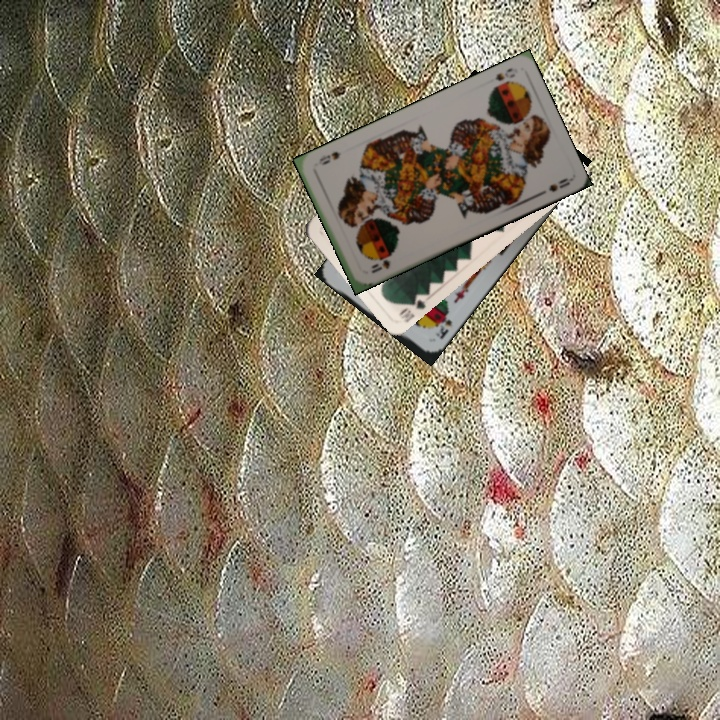G10: (395, 292, 428, 325)
SK: (432, 308, 455, 342)
SO: (367, 251, 395, 276), (491, 64, 518, 84)
